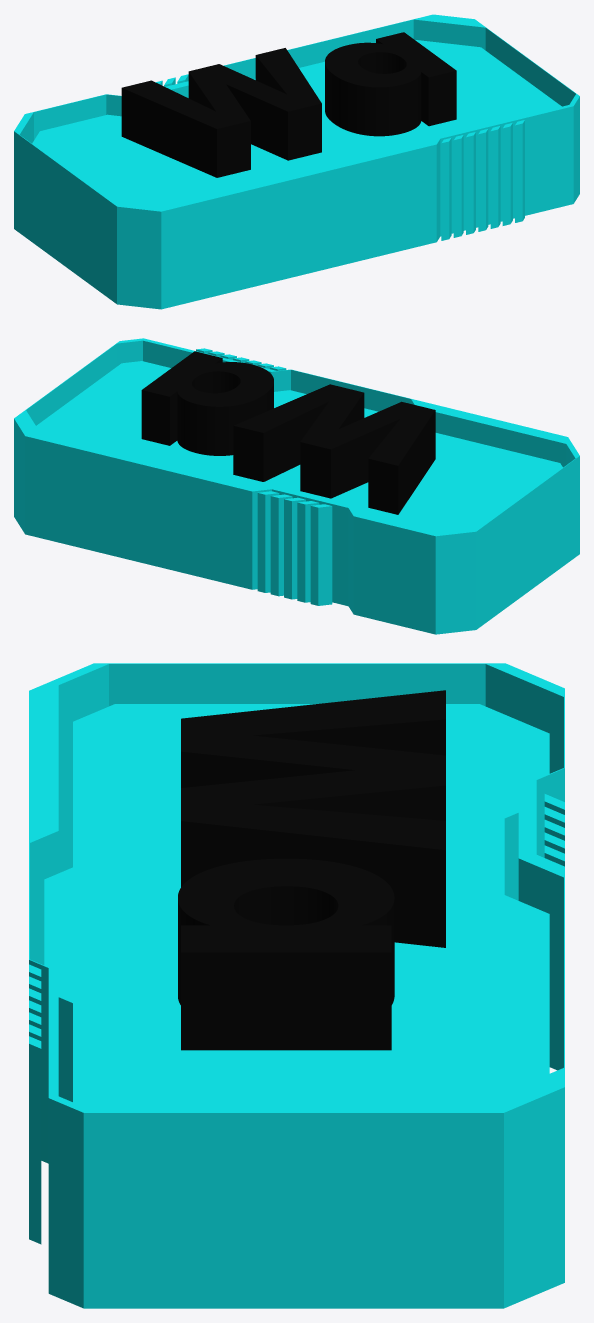
The model's file is 9.HurufWa.glb.
3 views of the same model, one above another, from view 1: azimuth 30°, elevation 25°; view 2: azimuth 150°, elevation 25°; view 3: azimuth 270°, elevation 25° (orthographic). The views are drawn at different scales.
Visible parts, largest first — view 1: Curve.152, Curve.146, Curve.160, Curve.161, Curve.154, Curve.156, Curve.157, Curve.158, Curve.153, Curve.155, Curve.159; view 2: Curve.152, Curve.146, Curve.160, Curve.161, Curve.151, Curve.150, Curve.147, Curve.148, Curve.149; view 3: Curve.152, Curve.146, Curve.160, Curve.161, Curve.159.
Part boxes in pixels (left/top/right/bottom): Curve.152: left=14, top=14, right=579, bottom=309; Curve.146: left=32, top=40, right=561, bottom=207; Curve.160: left=121, top=48, right=321, bottom=177; Curve.161: left=325, top=32, right=456, bottom=136; Curve.154: left=453, top=135, right=463, bottom=237; Curve.156: left=478, top=129, right=488, bottom=231; Curve.157: left=490, top=126, right=500, bottom=228; Curve.158: left=502, top=123, right=512, bottom=225; Curve.153: left=441, top=138, right=451, bottom=240; Curve.155: left=466, top=132, right=475, bottom=234; Curve.159: left=515, top=120, right=524, bottom=222; Curve.152: left=14, top=338, right=579, bottom=634; Curve.146: left=36, top=361, right=562, bottom=533; Curve.160: left=233, top=384, right=435, bottom=514; Curve.161: left=141, top=351, right=273, bottom=455; Curve.151: left=310, top=504, right=332, bottom=605; Curve.150: left=297, top=501, right=319, bottom=602; Curve.147: left=257, top=491, right=279, bottom=592; Curve.148: left=270, top=494, right=292, bottom=596; Curve.149: left=284, top=497, right=305, bottom=599; Curve.152: left=29, top=663, right=564, bottom=1308; Curve.146: left=44, top=704, right=549, bottom=1112; Curve.160: left=181, top=690, right=445, bottom=947; Curve.161: left=178, top=858, right=394, bottom=1050; Curve.159: left=29, top=1036, right=41, bottom=1244.
Size of the model in its own units: 0.2966 by 0.0798 by 0.1496.
